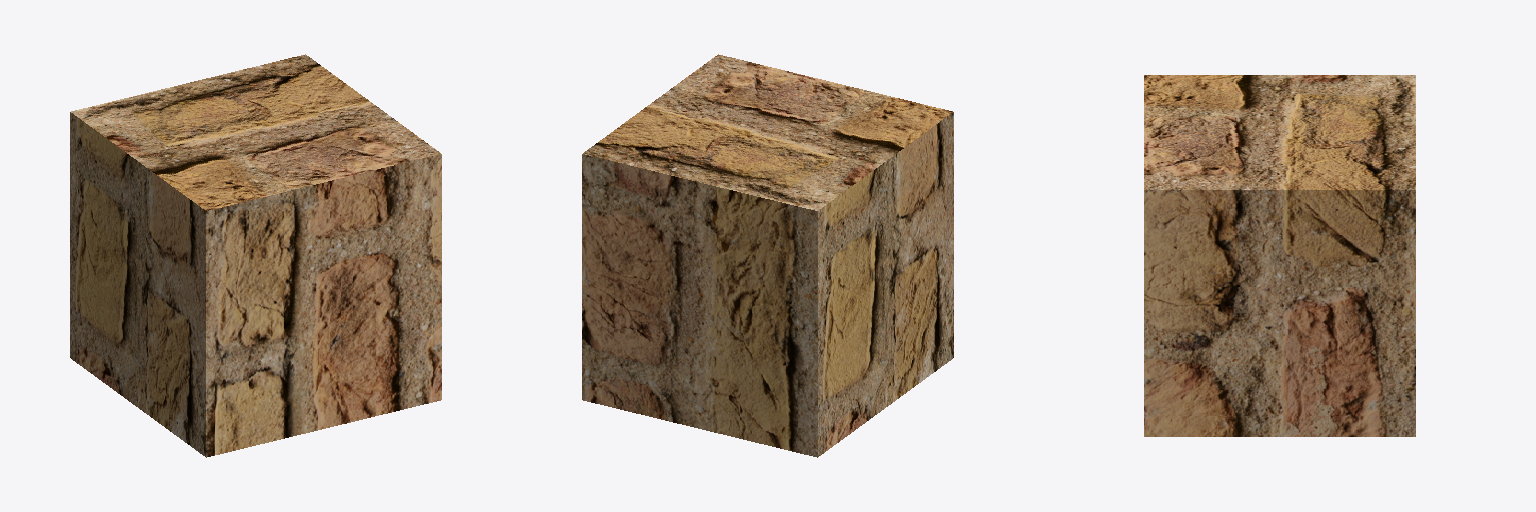
3 views of the same model, side by side, from view 1: azimuth 30°, elevation 25°; view 2: azimuth 150°, elevation 25°; view 3: azimuth 270°, elevation 25° (orthographic).
Parts seen in each view (by area): view 1: Cube; view 2: Cube; view 3: Cube.
Boxes of the visible parts, <box> form: Cube: <box>70,54,441,457</box>; Cube: <box>582,54,953,457</box>; Cube: <box>1144,75,1415,436</box>.
Bounding box in the file's own units: 2 × 2 × 2.
1 materials, 1 textured.